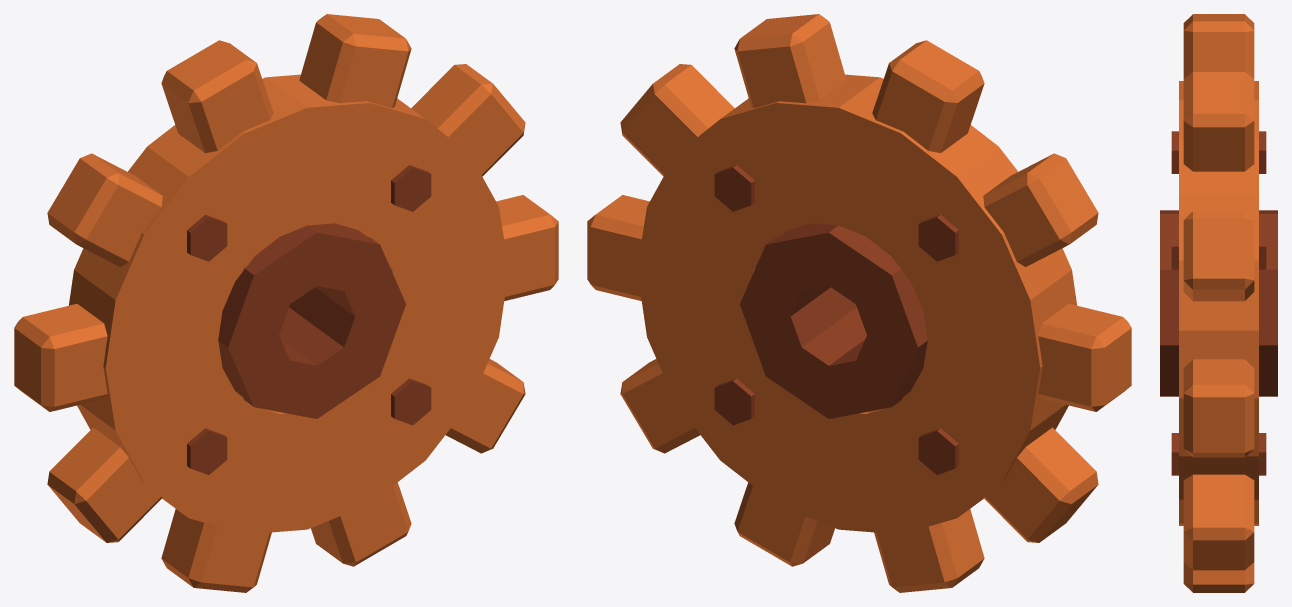
Rendered from item_gear_rusty.fbx.
3 renders of one model, left to right at view 1: azimuth 30°, elevation 25°; view 2: azimuth 150°, elevation 25°; view 3: azimuth 270°, elevation 25°, orthographic. The views are drawn at different scales.
Parts seen in each view (by area): view 1: item_gear_rusty; view 2: item_gear_rusty; view 3: item_gear_rusty.
Boxes of the visible parts, bbox=[...] form: item_gear_rusty: bbox=[14, 14, 558, 592]; item_gear_rusty: bbox=[587, 14, 1131, 592]; item_gear_rusty: bbox=[1160, 14, 1277, 592].
Bounding box in the file's own units: 2.44 × 2.4 × 0.5.
